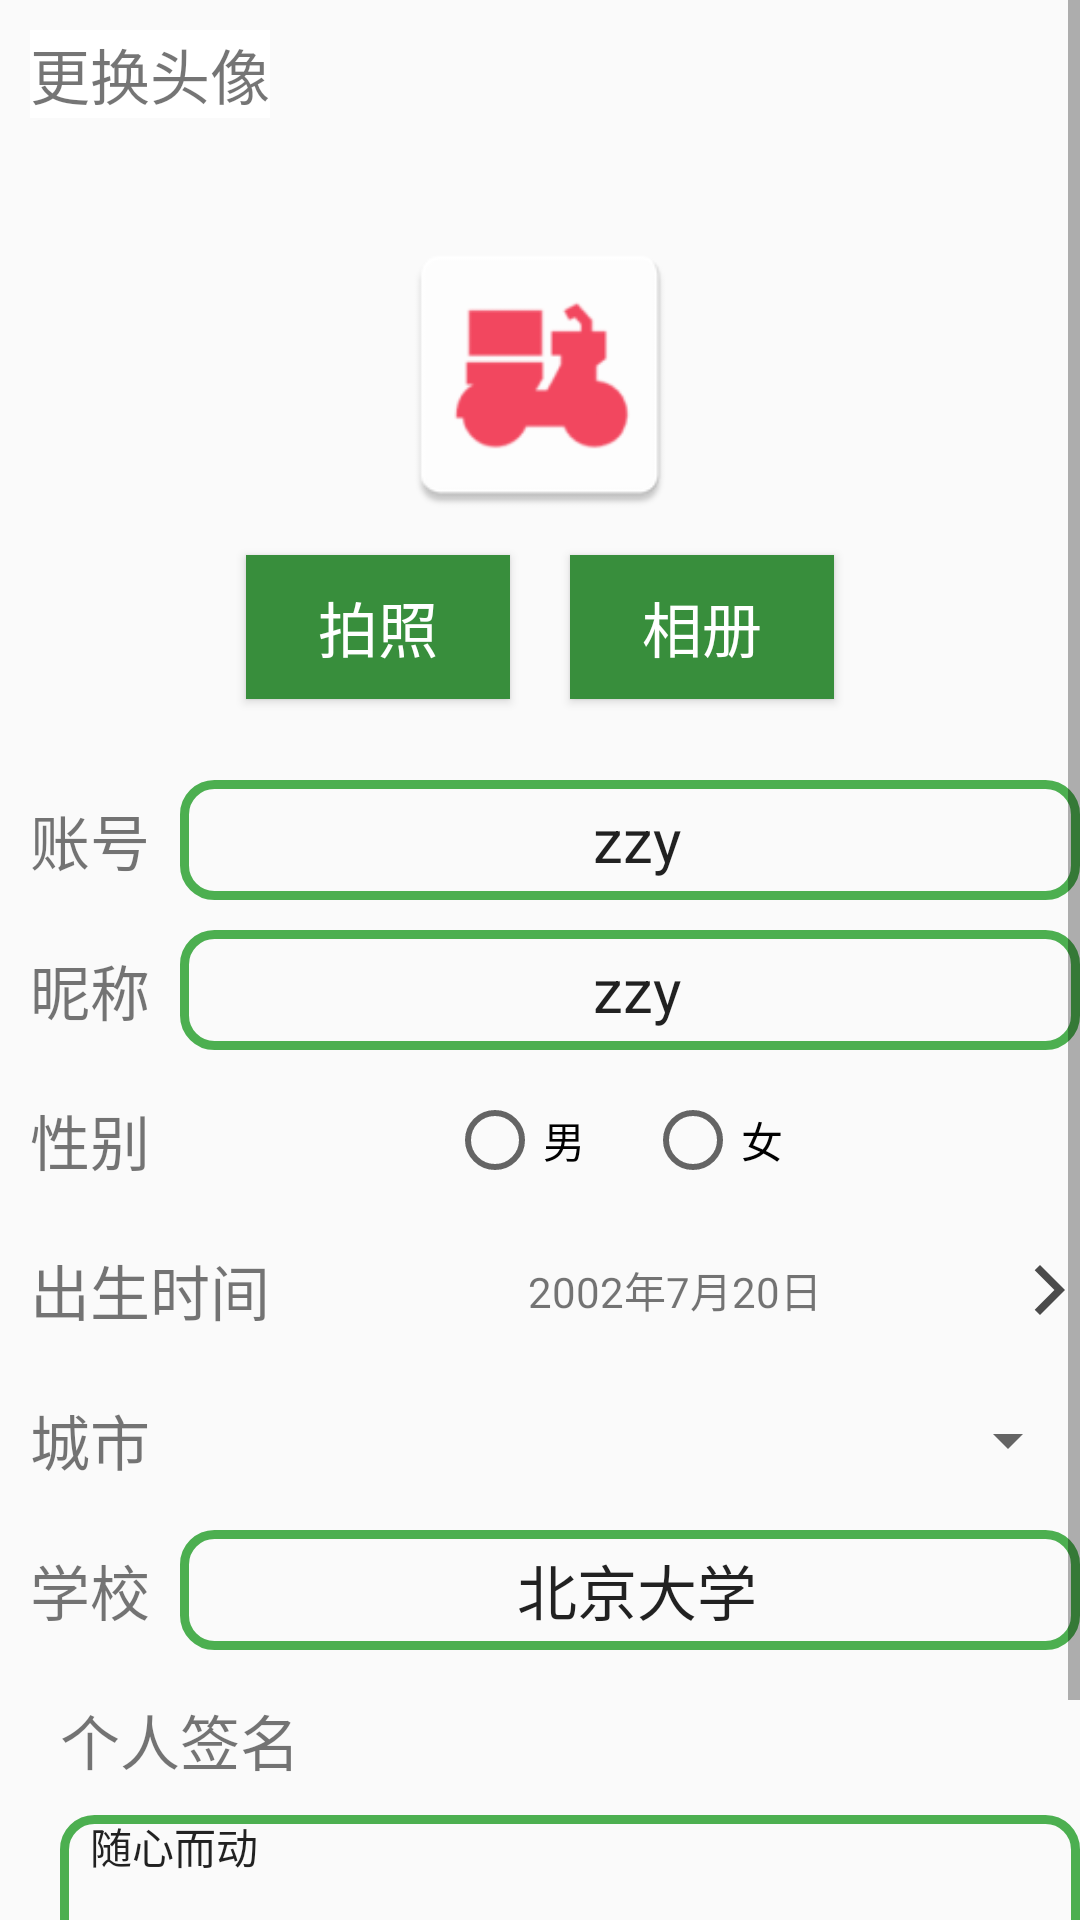

Screen size 1080x1920. Icon name, then its center in pixels as (x,y):
arrow forward: (1057,1290)
